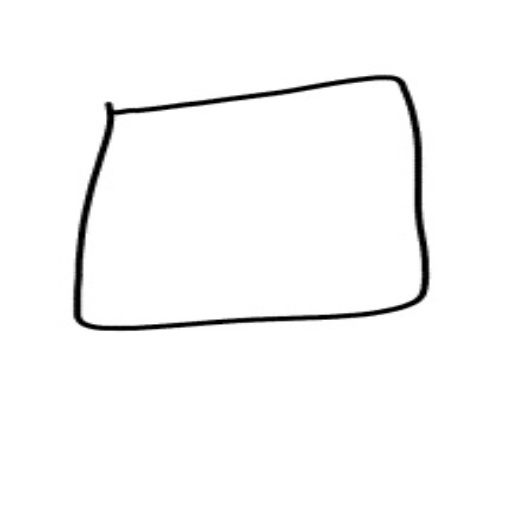square: (70, 72, 434, 329)
